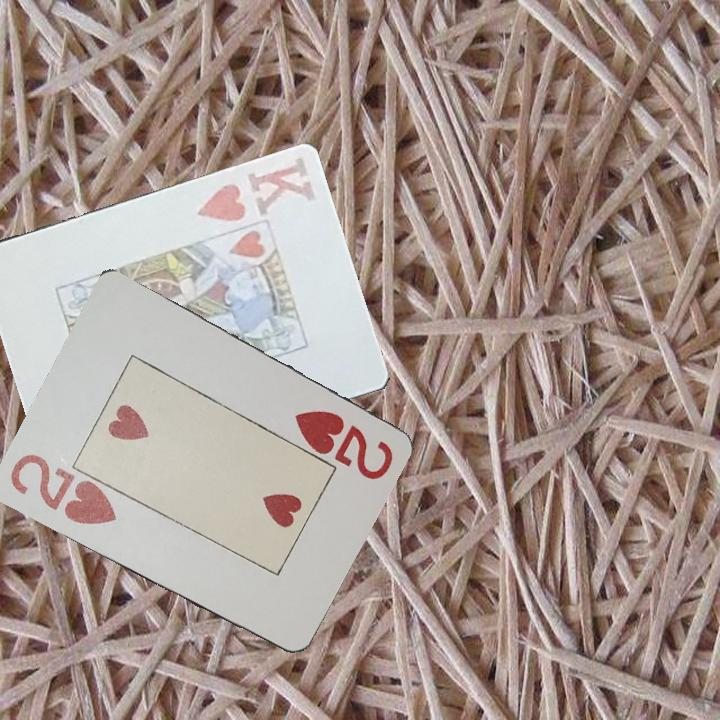2h: (6, 450, 119, 528), (290, 407, 396, 482)
Kh: (193, 154, 318, 226)
